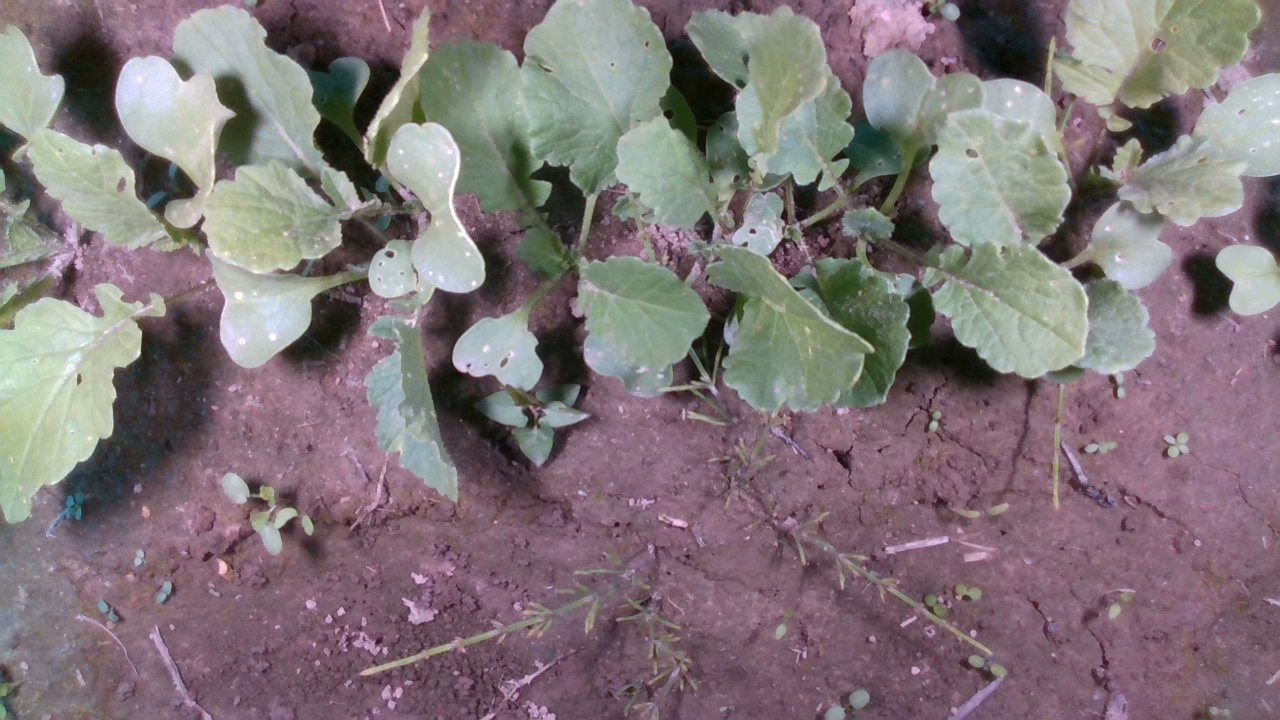weed: (966, 653, 1008, 679), (951, 501, 1011, 518), (1162, 429, 1191, 459), (1107, 590, 1133, 620), (1081, 438, 1118, 455), (96, 597, 119, 622), (155, 577, 173, 605), (954, 583, 983, 600), (927, 409, 941, 433), (132, 547, 145, 566)
